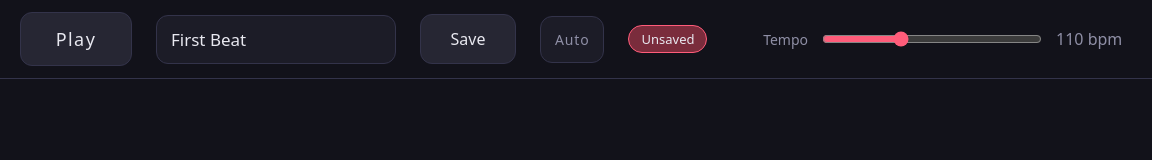
it: saving from the sequencer › confirms it saved
Click the button "Save": point(468, 39) [420, 14, 516, 64]
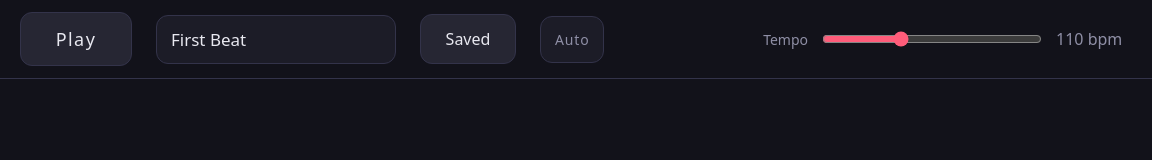
Check: the button "Saved" is shown, box [420, 14, 516, 64]
